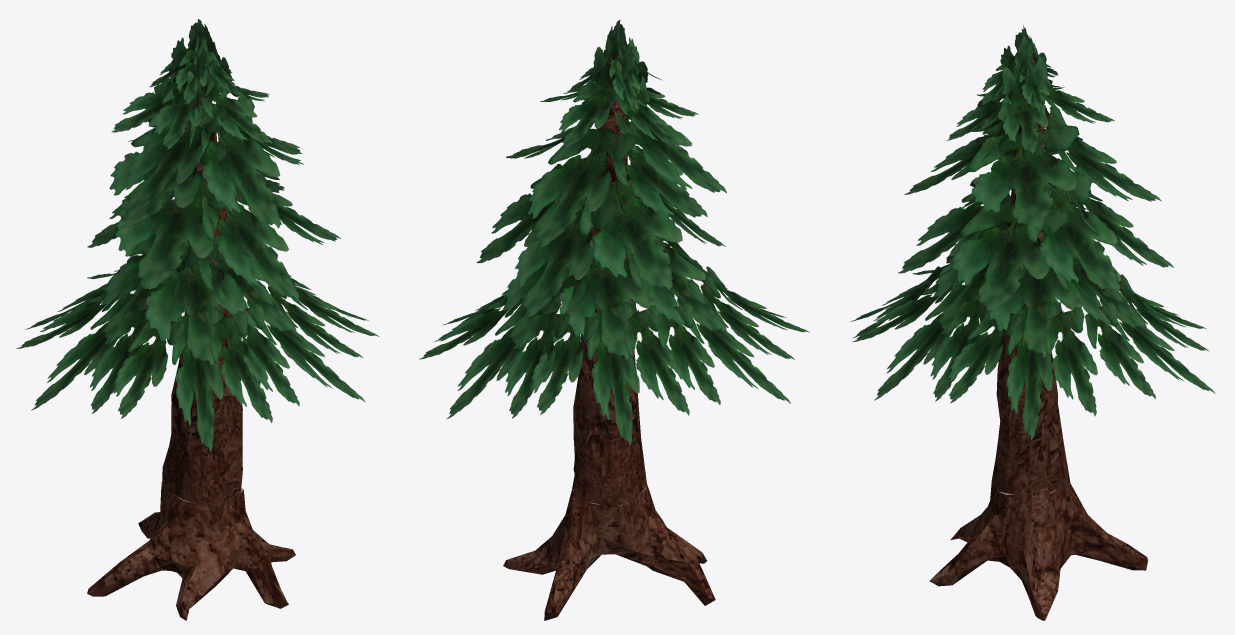
The model's file is pinetree_cut.glb.
The picture shows the model from 3 angles, left to right: view 1: azimuth 30°, elevation 25°; view 2: azimuth 150°, elevation 25°; view 3: azimuth 270°, elevation 25°; orthographic projection. The views are drawn at different scales.
Visible parts, largest first — view 1: bigleaf.002, Cube.001, bigleaf.004, bigleaf, Cube, pineleaf.002, pineleaf.010, pineleaf.001, pineleaf.003, pineleaf.011, pineleaf.014, pineleaf.015 (+10 smaller); view 2: bigleaf.005, Cube.001, bigleaf.004, bigleaf.003, Cube, pineleaf.008, pineleaf.004, pineleaf.007, pineleaf.003, pineleaf.011, pineleaf.006, pineleaf.017 (+7 smaller); view 3: Cube.001, bigleaf.001, bigleaf.003, bigleaf, Cube, pineleaf.009, pineleaf.005, pineleaf.006, pineleaf.008, pineleaf.001, pineleaf.024, pineleaf.007 (+8 smaller).
Boxes of the visible parts, x1,y1,x2,y2 form: bigleaf.002: (113,235,272,452); Cube.001: (87,481,295,620); bigleaf.004: (16,234,200,413); bigleaf: (198,255,365,405); Cube: (162,65,242,503); pineleaf.002: (115,175,238,289); pineleaf.010: (189,97,280,228); pineleaf.001: (201,180,299,300); pineleaf.003: (123,103,227,219); pineleaf.011: (109,127,227,227); pineleaf.014: (201,83,272,143); pineleaf.015: (154,79,214,149); bigleaf.005: (531,235,689,446); Cube.001: (503,484,715,620); bigleaf.004: (626,216,794,404); bigleaf.003: (419,250,600,419); Cube: (572,54,646,505); pineleaf.008: (528,128,635,247); pineleaf.004: (580,178,682,290); pineleaf.007: (514,194,616,317); pineleaf.003: (614,101,726,193); pineleaf.011: (610,120,707,217); pineleaf.006: (476,164,562,263); pineleaf.017: (577,20,633,106); Cube.001: (929,480,1147,620); bigleaf.001: (948,233,1097,440); bigleaf.003: (1056,258,1215,398); bigleaf: (852,222,1008,401); Cube: (992,58,1070,496); pineleaf.009: (968,125,1079,228); pineleaf.005: (952,203,1068,311); pineleaf.006: (1027,174,1120,291); pineleaf.008: (1046,106,1161,201); pineleaf.001: (898,193,1011,273); pineleaf.024: (998,35,1047,121); pineleaf.007: (1072,166,1173,267).
Size of the model in its own units: 3.08 by 4.81 by 3.
Materials: 50 (50 with a texture image).
